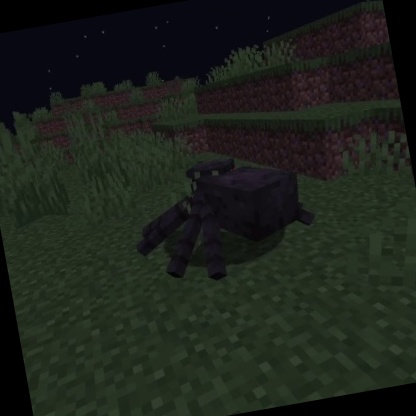spider: (121, 139, 327, 297)
